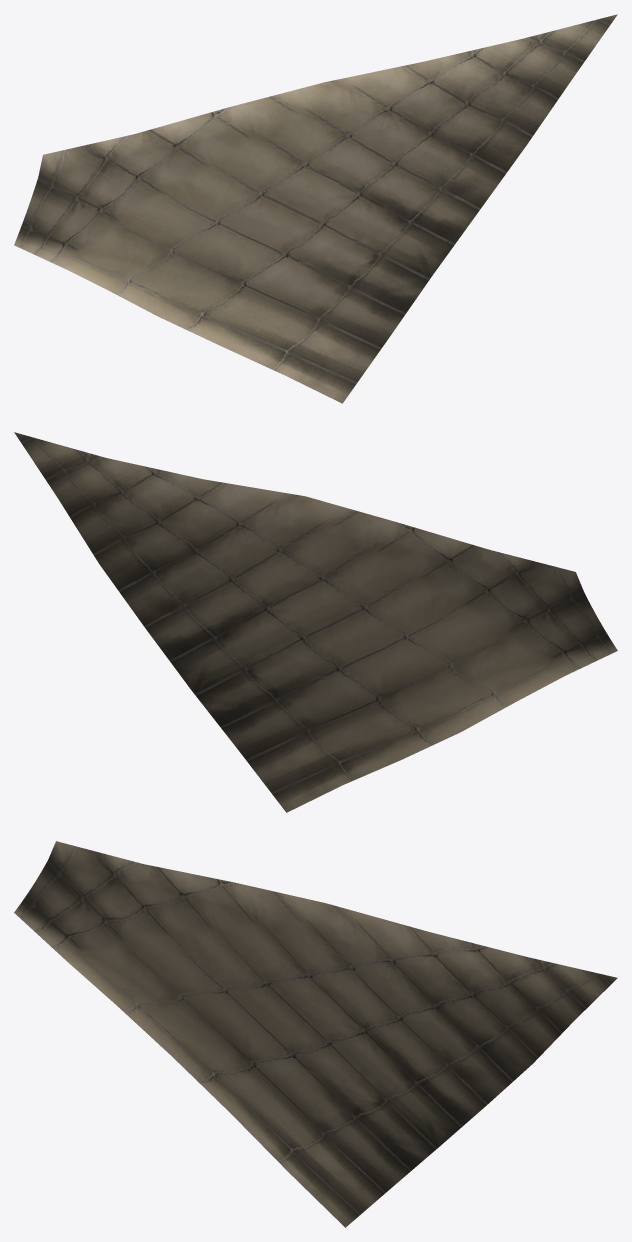
Rendered from orient_sail_middle.glb.
3 renders of one model, top to bottom at view 1: azimuth 30°, elevation 25°; view 2: azimuth 150°, elevation 25°; view 3: azimuth 330°, elevation 25°, orthographic.
Parts seen in each view (by area): view 1: CLOTH_orient_cargo_ship_sail_middle; view 2: CLOTH_orient_cargo_ship_sail_middle; view 3: CLOTH_orient_cargo_ship_sail_middle.
Boxes of the visible parts, <box> form: CLOTH_orient_cargo_ship_sail_middle: <box>14,14,617,403</box>; CLOTH_orient_cargo_ship_sail_middle: <box>14,432,617,812</box>; CLOTH_orient_cargo_ship_sail_middle: <box>14,841,617,1227</box>.
Bounding box in the file's own units: 4.36 × 2.23 × 0.0985.
1 material, 1 textured.
